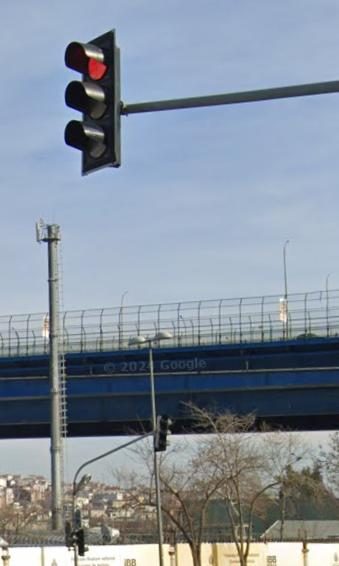redlight: (62, 34, 122, 169)
